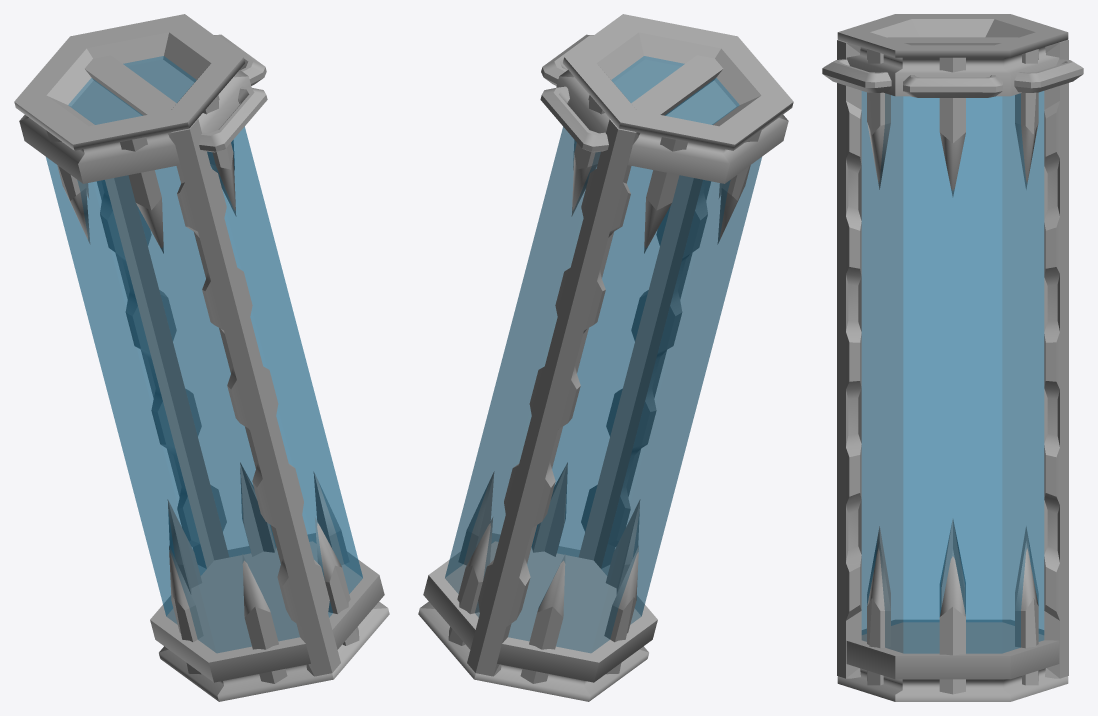
File: Cell_Hite.fbx
3 renders of one model, left to right at view 1: azimuth 30°, elevation 25°; view 2: azimuth 150°, elevation 25°; view 3: azimuth 270°, elevation 25°, orthographic.
Parts seen in each view (by area): view 1: CenterCrystal, SupportBeams, TopCap, BottomCap, BottomClamps, TopClamps, HandleLeft, HandleMiddle; view 2: CenterCrystal, SupportBeams, TopCap, BottomCap, BottomClamps, TopClamps, HandleRight, HandleMiddle; view 3: CenterCrystal, SupportBeams, BottomCap, TopCap, BottomClamps, TopClamps, HandleMiddle, HandleRight, HandleLeft.
Boxes of the visible parts, <box> form: CenterCrystal: <box>46,56,362,652</box>; SupportBeams: <box>84,55,340,676</box>; TopCap: <box>14,14,251,183</box>; BottomCap: <box>150,533,389,701</box>; BottomClamps: <box>167,462,359,683</box>; TopClamps: <box>46,95,236,253</box>; HandleLeft: <box>199,86,267,152</box>; HandleMiddle: <box>214,34,266,85</box>; CenterCrystal: <box>445,56,761,652</box>; SupportBeams: <box>467,55,723,676</box>; TopCap: <box>556,14,793,183</box>; BottomCap: <box>418,533,657,701</box>; BottomClamps: <box>448,462,640,683</box>; TopClamps: <box>571,95,761,253</box>; HandleRight: <box>540,86,608,152</box>; HandleMiddle: <box>541,34,593,85</box>; CenterCrystal: <box>861,91,1044,653</box>; SupportBeams: <box>837,37,1068,678</box>; BottomCap: <box>837,620,1068,701</box>; TopCap: <box>837,14,1068,96</box>; BottomClamps: <box>867,519,1038,694</box>; TopClamps: <box>867,49,1038,196</box>; HandleMiddle: <box>903,75,1002,97</box>; HandleRight: <box>1014,59,1083,92</box>; HandleLeft: <box>822,59,891,92</box>.
Bounding box in the file's own units: 3.09 × 5.96 × 2.25.
